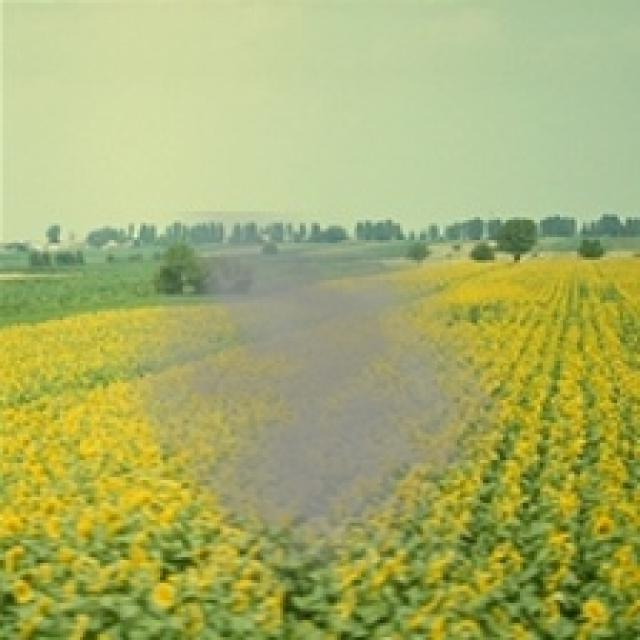smoke: (100, 212, 526, 617)
